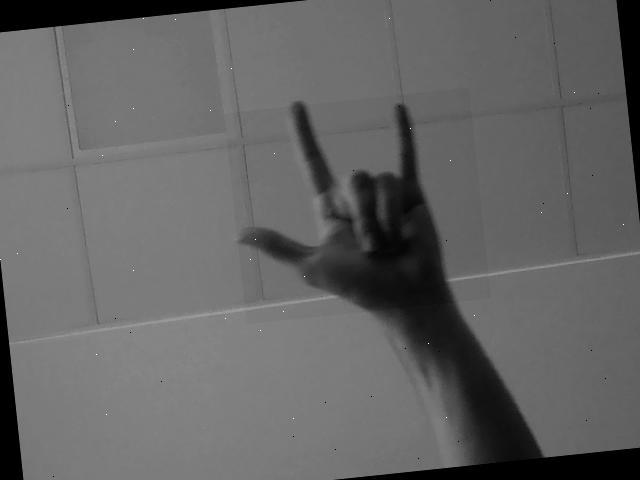I_Love_You: (224, 87, 491, 324)
